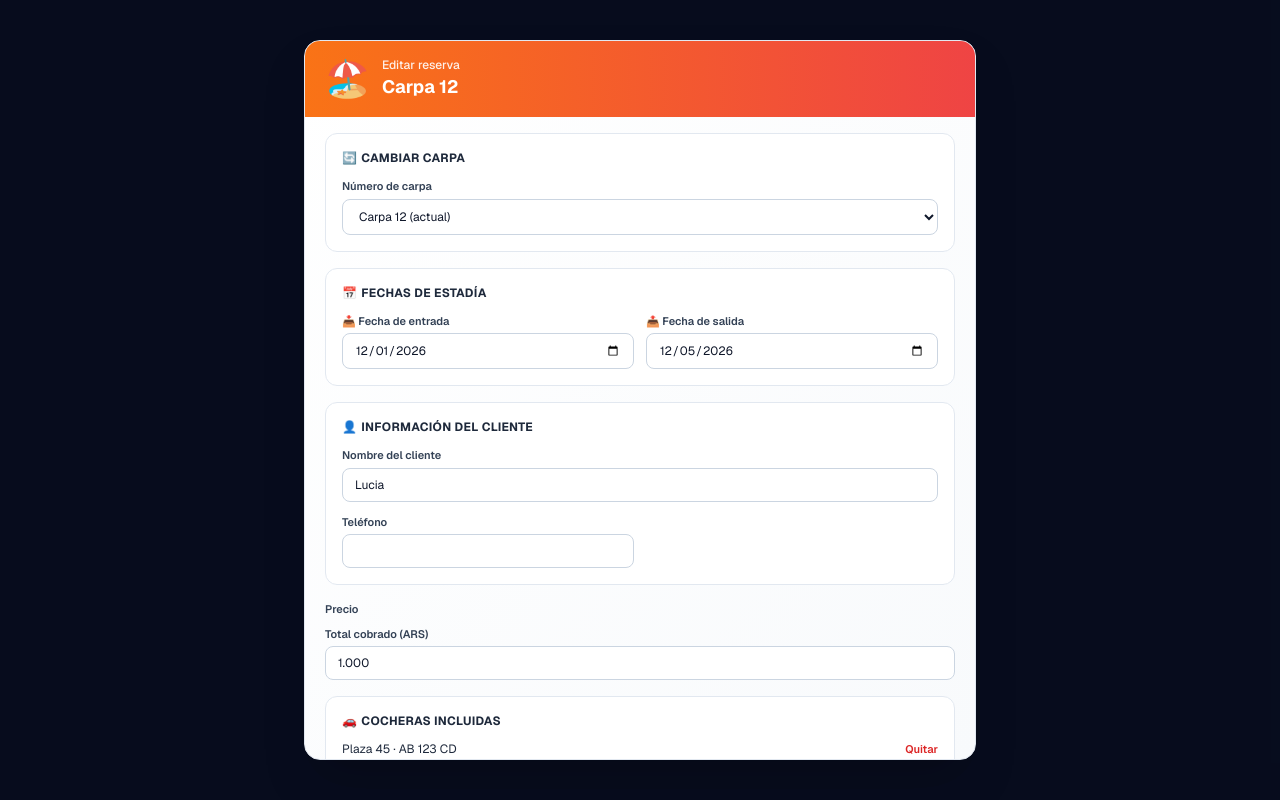
Test case: editar una carpa con servicios incluidos › muestra las cocheras incluidas y permite quitar una
Expected: the text "Plaza 45 · AB 123 CD" is shown, [342,741,456,757]
What coordinates should you click on to do the following:
click the button with aria-label "Quitar cochera de la plaza 45"
I would click on:
 (922, 749)
Its box is [905,741,938,757].
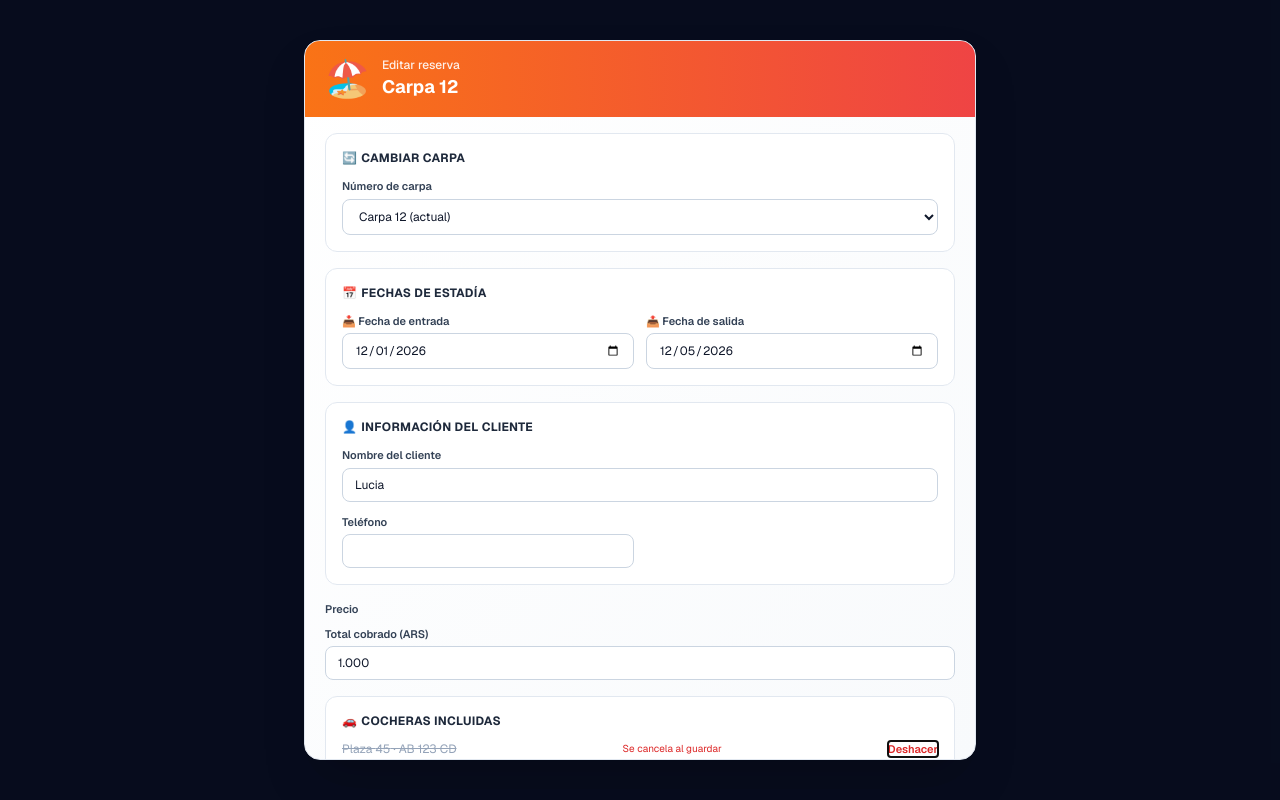
Now the text "Se cancela al guardar" is shown, box [623,741,722,757]
